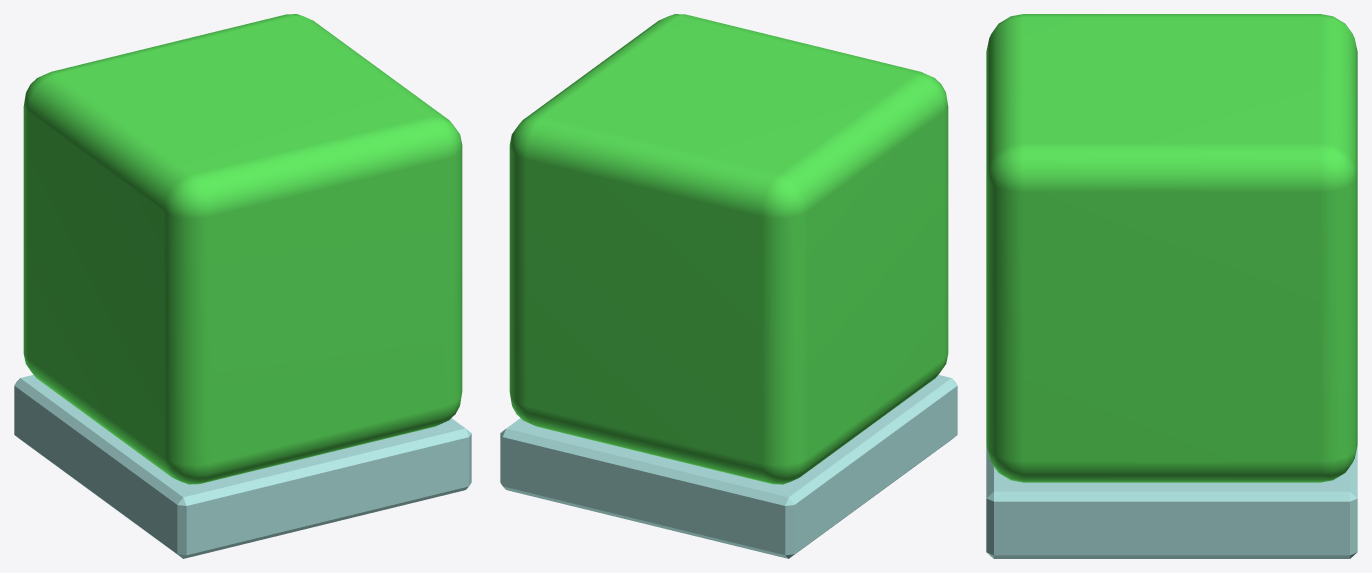
File: Wall.fbx
3 views of the same model, side by side, from view 1: azimuth 30°, elevation 25°; view 2: azimuth 150°, elevation 25°; view 3: azimuth 270°, elevation 25° (orthographic). The views are drawn at different scales.
Parts seen in each view (by area): view 1: pCube2, pCube1; view 2: pCube2, pCube1; view 3: pCube2, pCube1.
Part boxes in pixels (x1=…): pCube2: x1=23, y1=14, x2=462, y2=484; pCube1: x1=14, y1=375, x2=471, y2=558; pCube2: x1=509, y1=14, x2=948, y2=484; pCube1: x1=500, y1=375, x2=957, y2=558; pCube2: x1=986, y1=14, x2=1357, y2=482; pCube1: x1=986, y1=446, x2=1357, y2=558.
Size of the model in its own units: 1 by 1.2 by 1.
